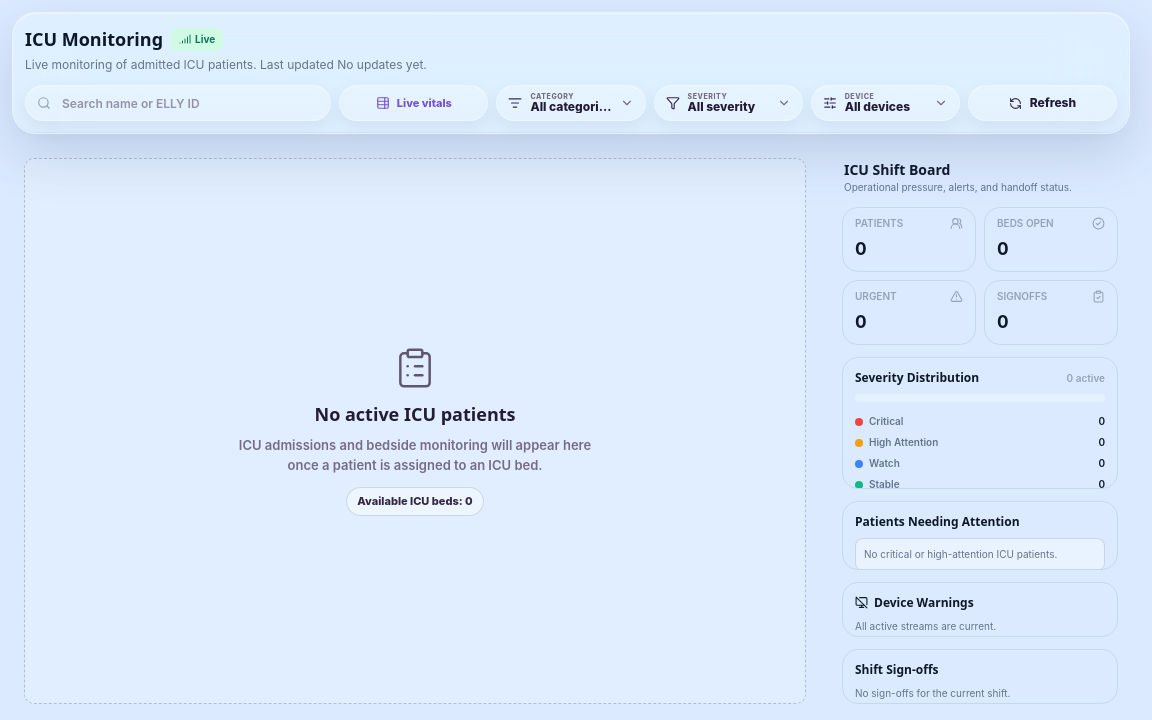
it: IcuMonitoring › uses custom filter menus for severity and device status
Step 1. Click the button with aria-label "Severity: All severity" → point(728, 103), box [654, 85, 803, 121]
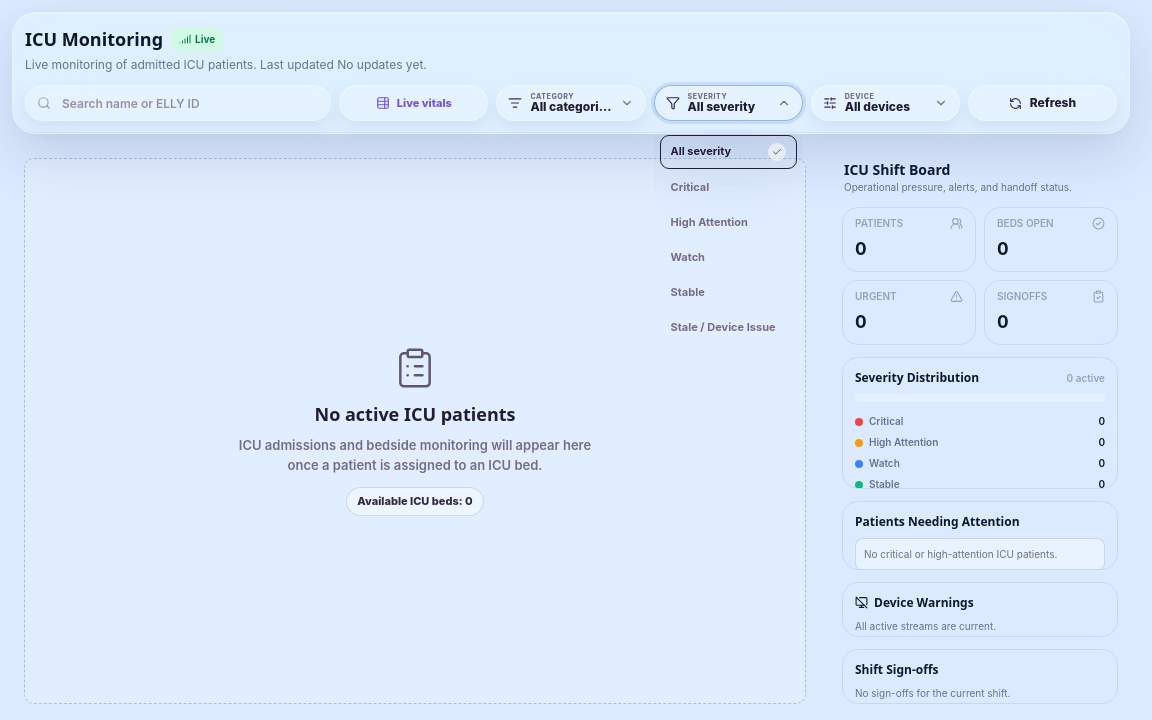
Result: the text "All severity" is shown once at [671, 145, 731, 159]
Step 2. Click the option "Critical" → point(728, 188), box [660, 172, 797, 204]
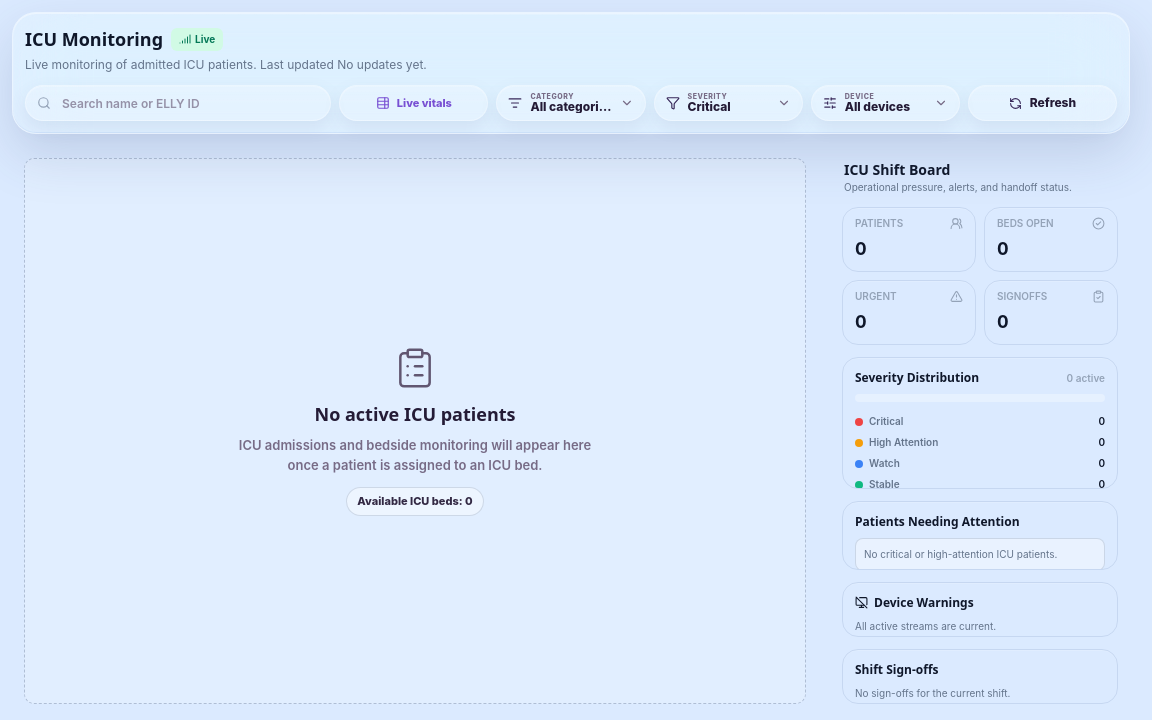
Result: the button with aria-label "Severity: Critical" is shown at [654, 85, 803, 121]
Step 3. Click the button with aria-label "Device: All devices" → point(885, 103), box [811, 85, 960, 121]
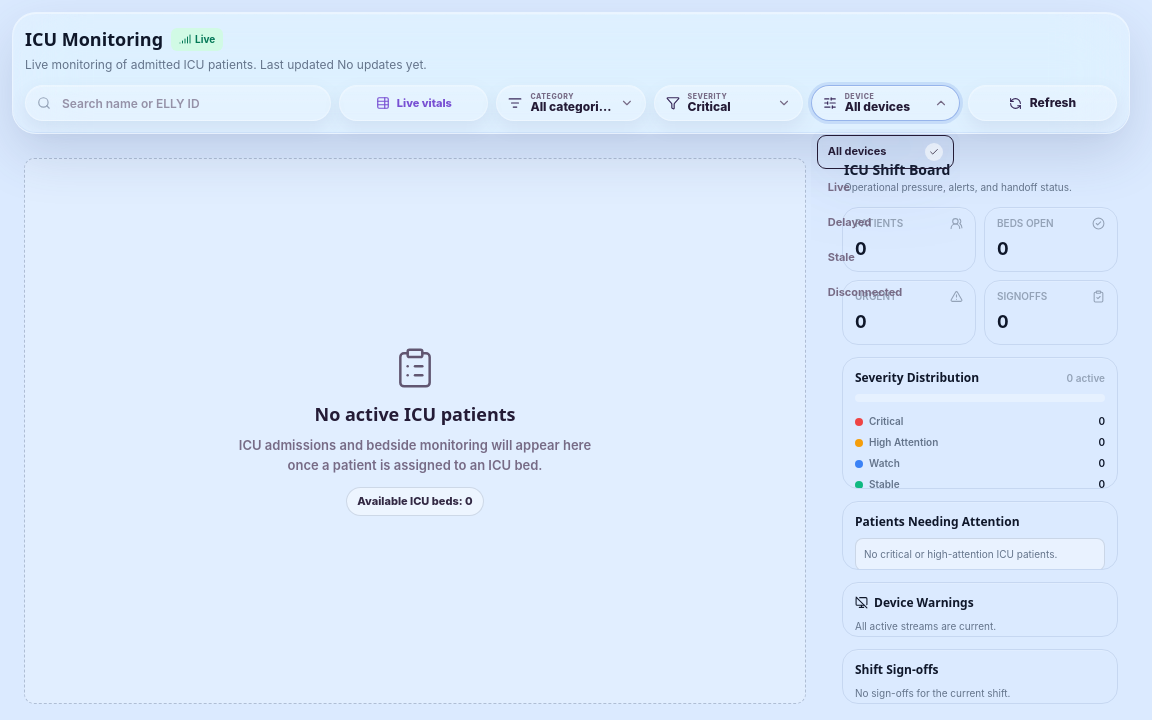
Result: the text "All devices" is shown once at [828, 145, 886, 159]
Step 4. Click the option "Delayed" → point(885, 223), box [817, 207, 954, 239]
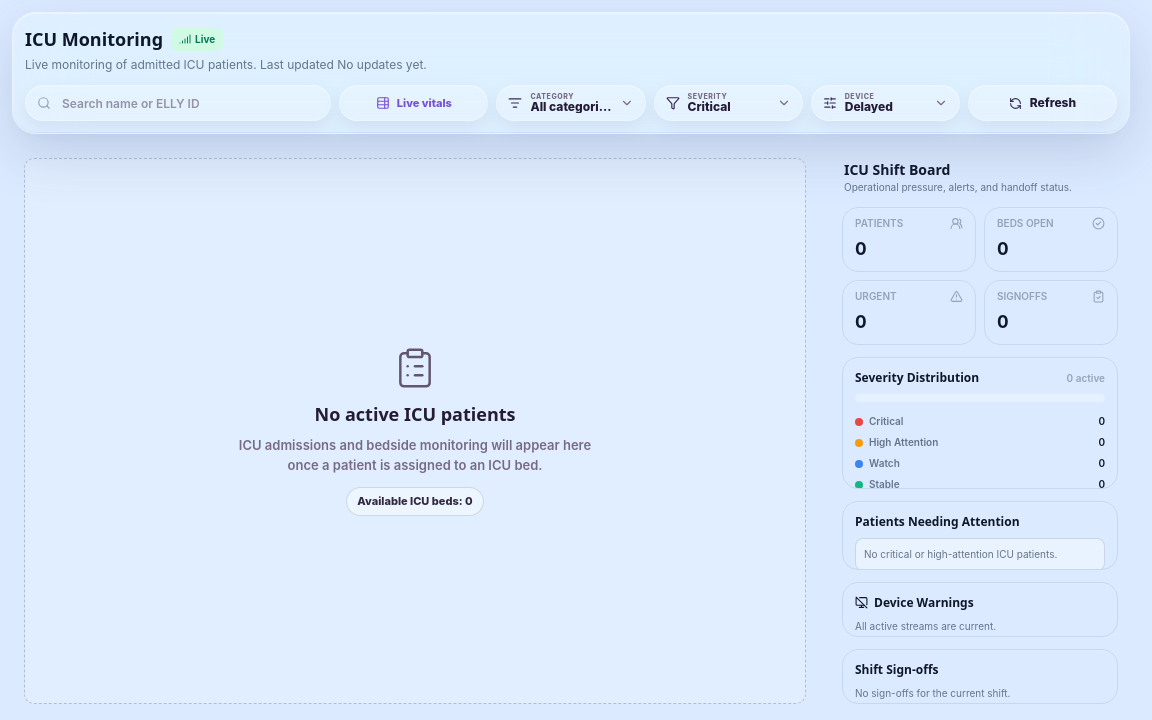
Result: the button with aria-label "Device: Delayed" is shown at [811, 85, 960, 121]
